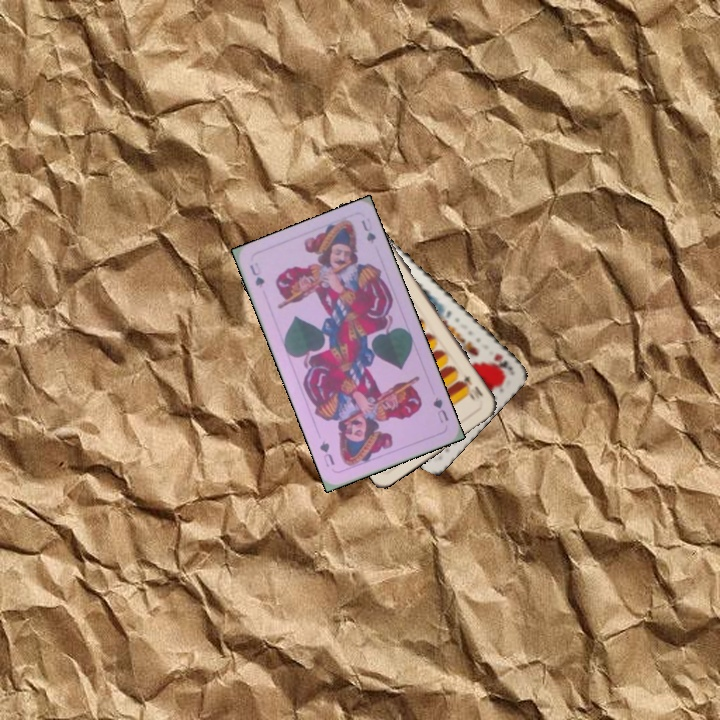E10: (455, 369, 486, 399)
GU: (429, 393, 451, 426), (246, 258, 267, 290)
HK: (489, 349, 515, 373)
